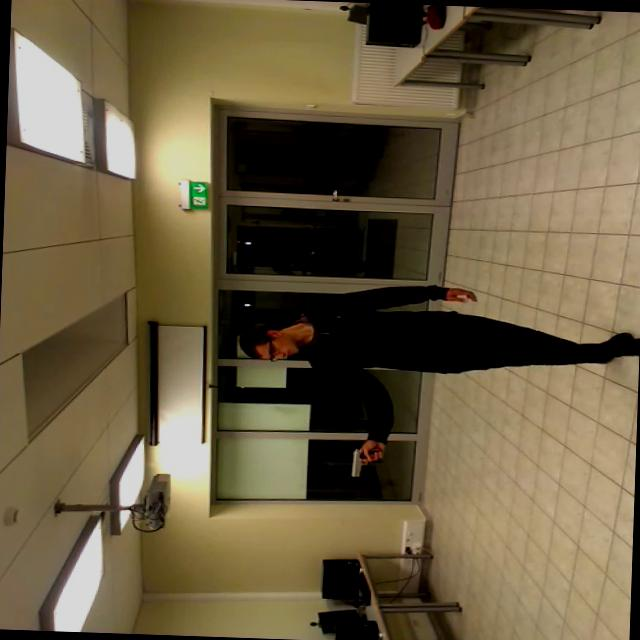handgun: (336, 429, 400, 483)
